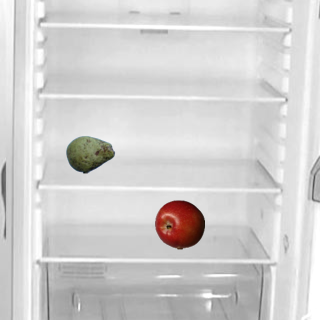Apple Braeburn: (154, 199, 204, 249)
Pear Stone: (65, 129, 115, 179)
